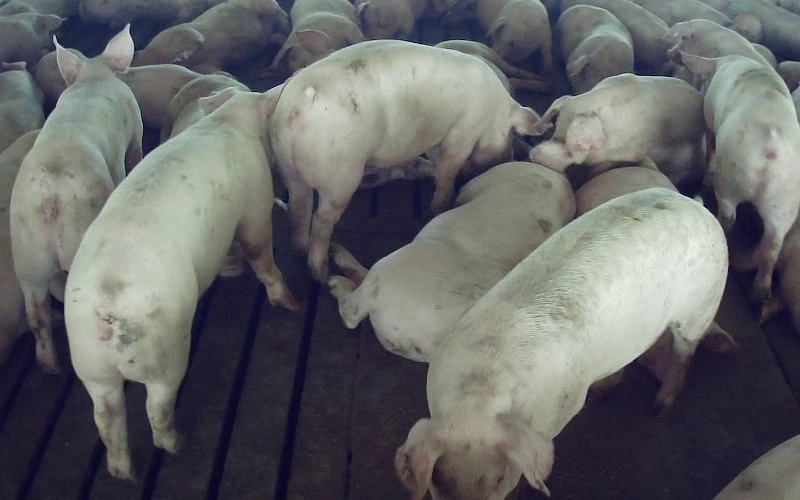pig: (397, 189, 725, 499), (271, 41, 537, 282), (329, 140, 574, 361), (10, 26, 141, 372), (683, 53, 799, 302), (542, 73, 704, 184), (555, 5, 633, 94), (272, 0, 365, 74), (477, 0, 552, 74)
